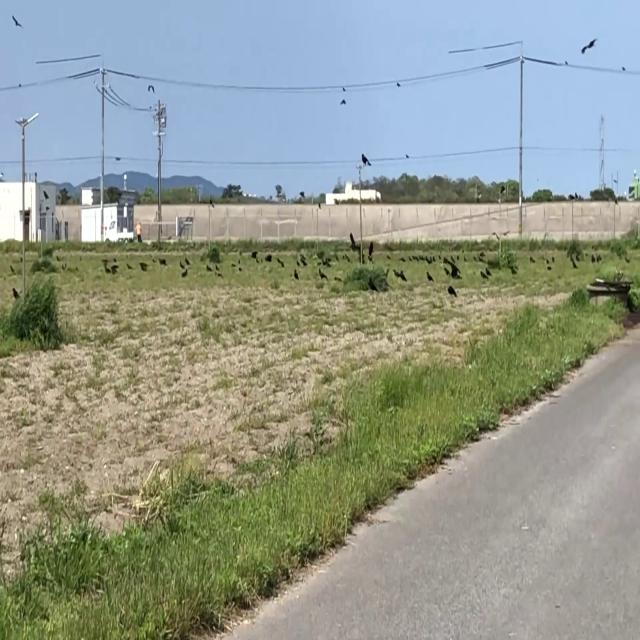bird: (582, 30, 596, 59), (361, 150, 370, 172), (340, 88, 347, 110), (368, 239, 373, 261), (450, 282, 456, 299), (427, 266, 432, 284), (294, 265, 298, 283), (484, 266, 488, 282), (591, 252, 595, 266)
